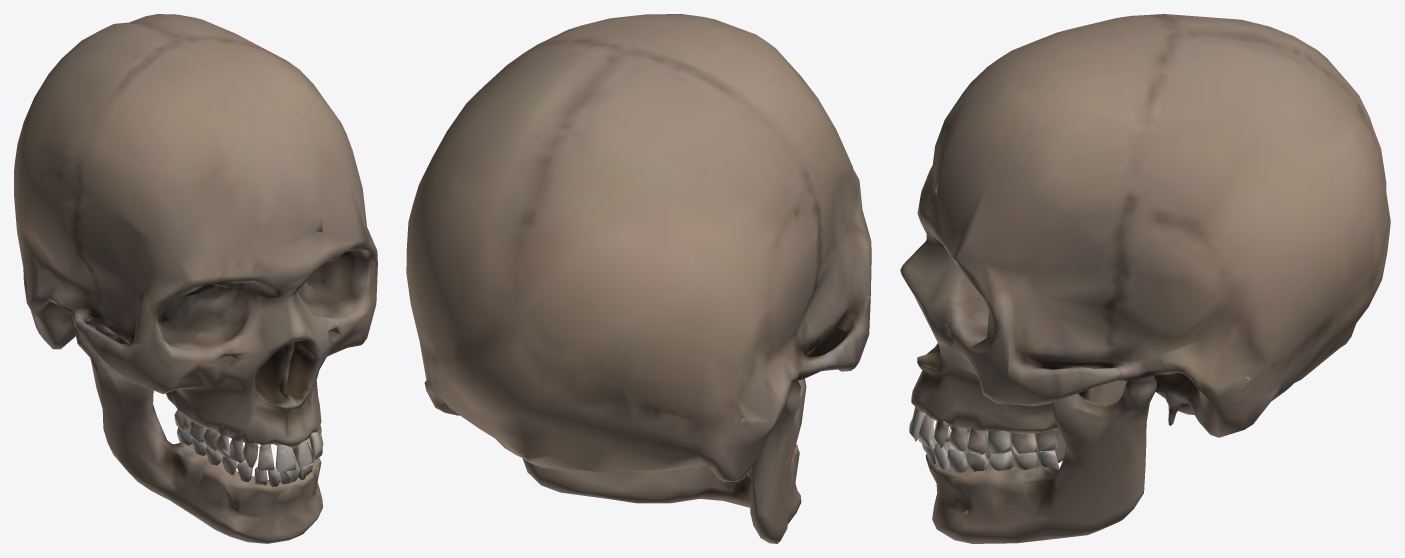
The model's file is skull.glb.
The picture shows the model from 3 angles, left to right: view 1: azimuth 30°, elevation 25°; view 2: azimuth 150°, elevation 25°; view 3: azimuth 270°, elevation 25°; orthographic projection. The views are drawn at different scales.
Visible parts, largest first — view 1: Object_2; view 2: Object_2; view 3: Object_2.
Part boxes in pixels (bbox=[...]): Object_2: bbox=[14, 14, 377, 543]; Object_2: bbox=[406, 14, 871, 543]; Object_2: bbox=[900, 14, 1390, 543].
Bounding box in the file's own units: 1.34 × 2 × 1.79.
Materials: 1 (1 with a texture image).
